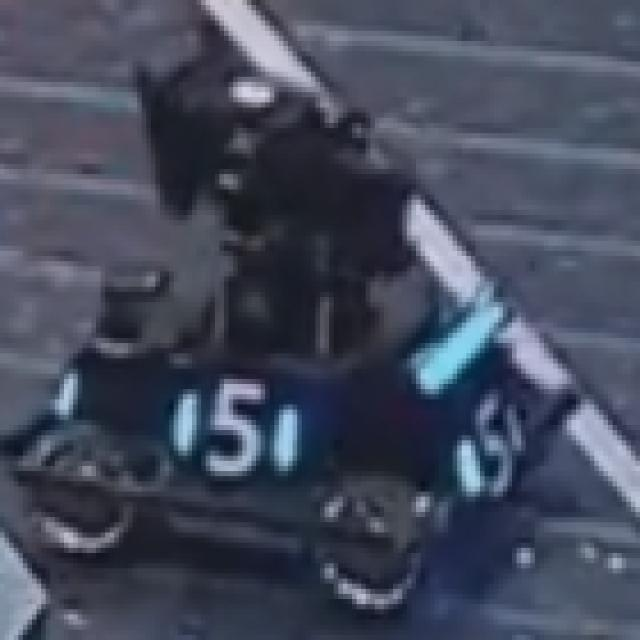B5: (174, 368, 297, 486), (452, 399, 526, 497)
